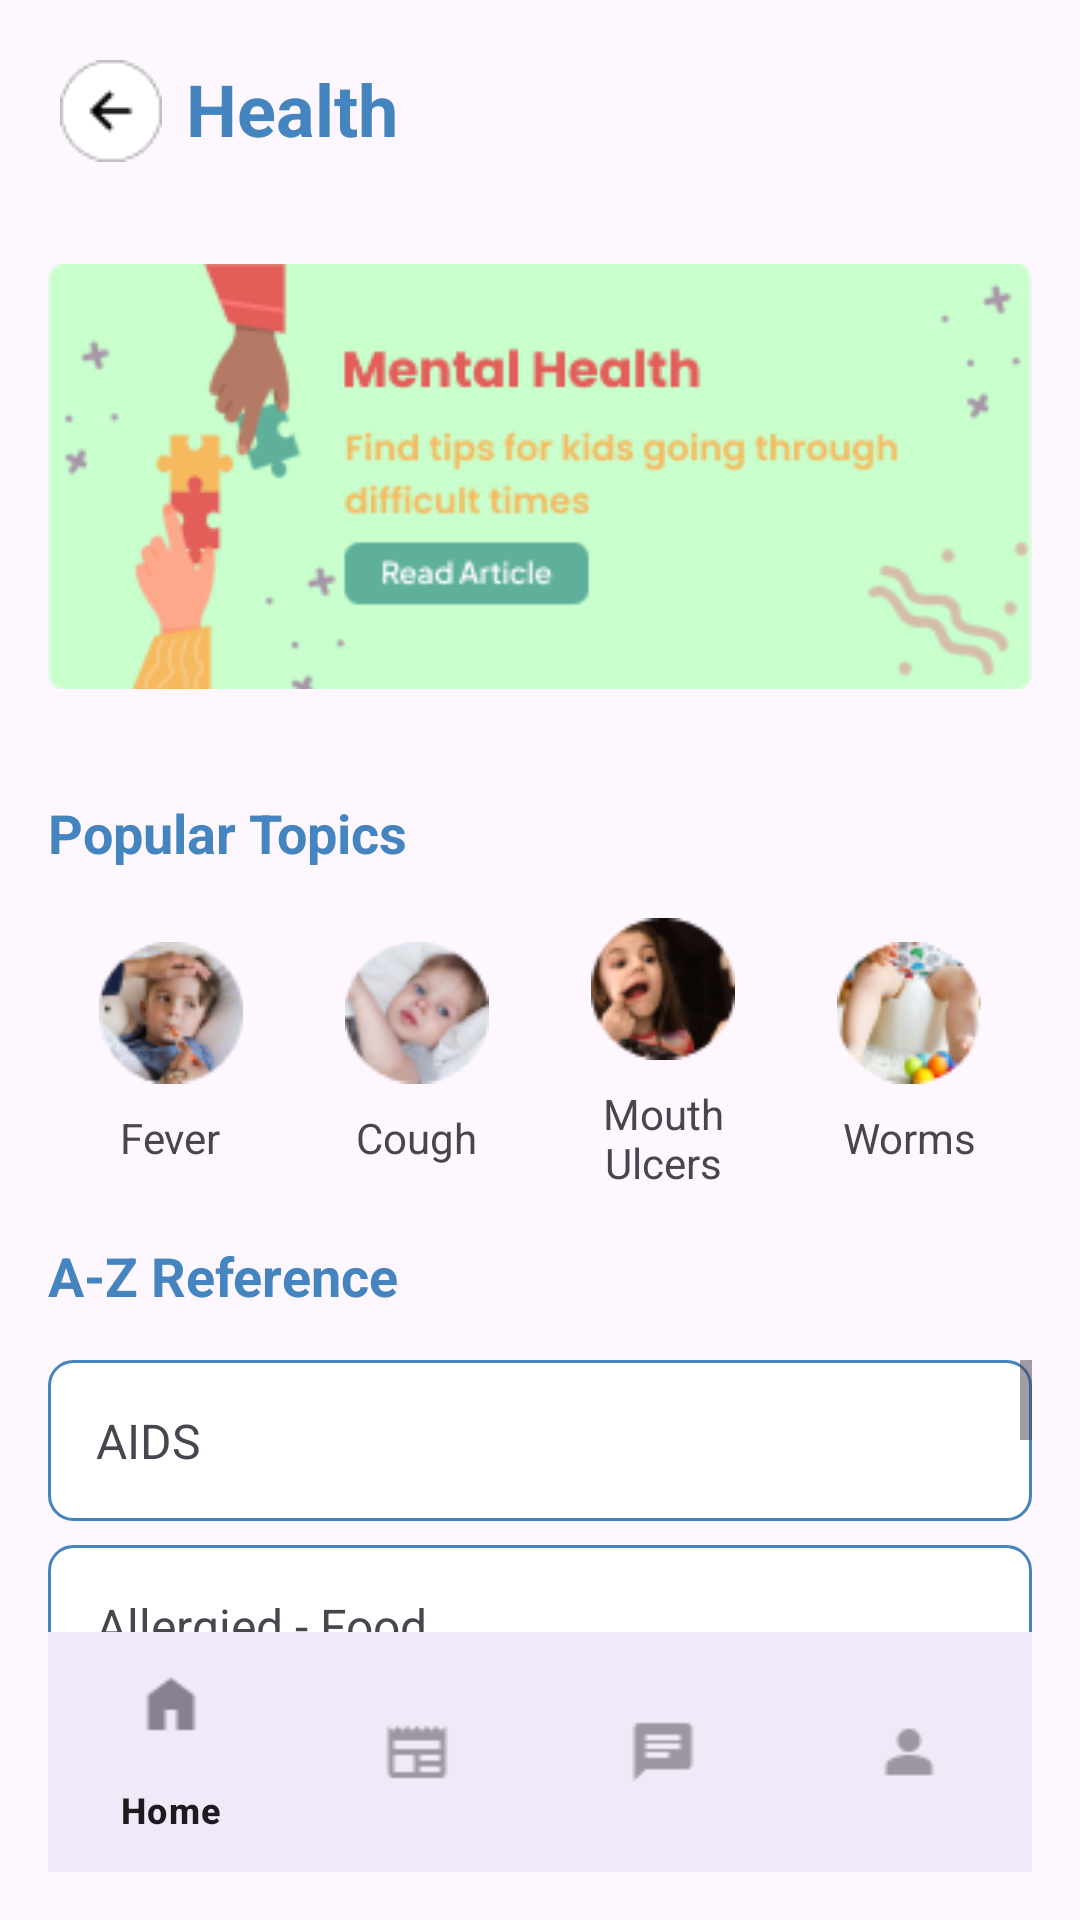

Screen size 1080*1920. Icon name, then its box in pixels as (x1, y1, x2, y2):
Back Icon: (60, 60, 162, 162)
